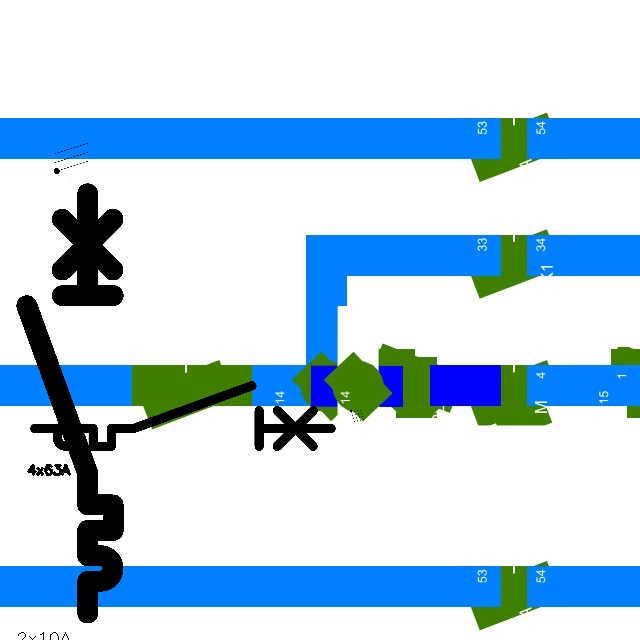interruptor_termomagnetico: (16, 182, 124, 623), (27, 378, 339, 454)
